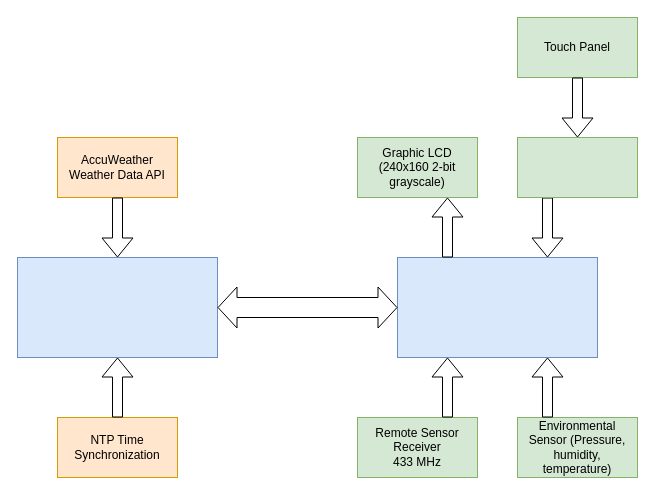
The diagram is 655 pixels wide and 495 high, and some of its shapes have lost their labels. Each missing label, with the box of its shape:
Interface Engine Raspberry Pi Pico: (396, 256, 598, 358)
Network Engine ESP8266: (16, 256, 218, 358)
Touch Digitizer: (516, 136, 638, 198)
